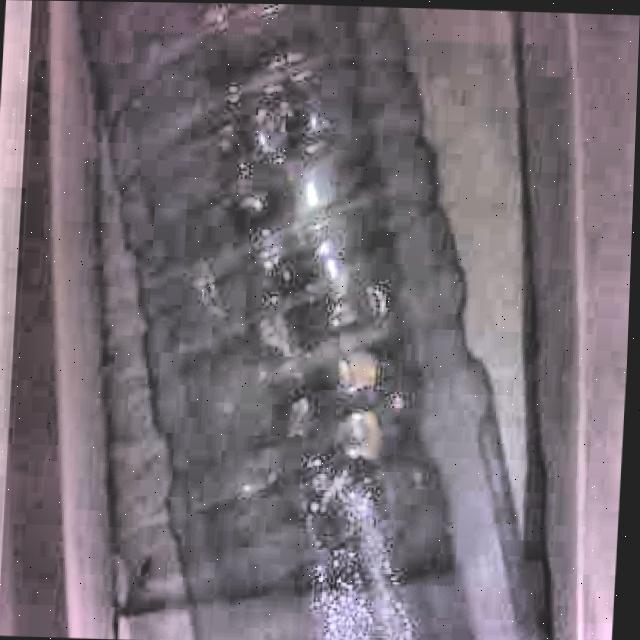plastic: (1, 0, 640, 640)
